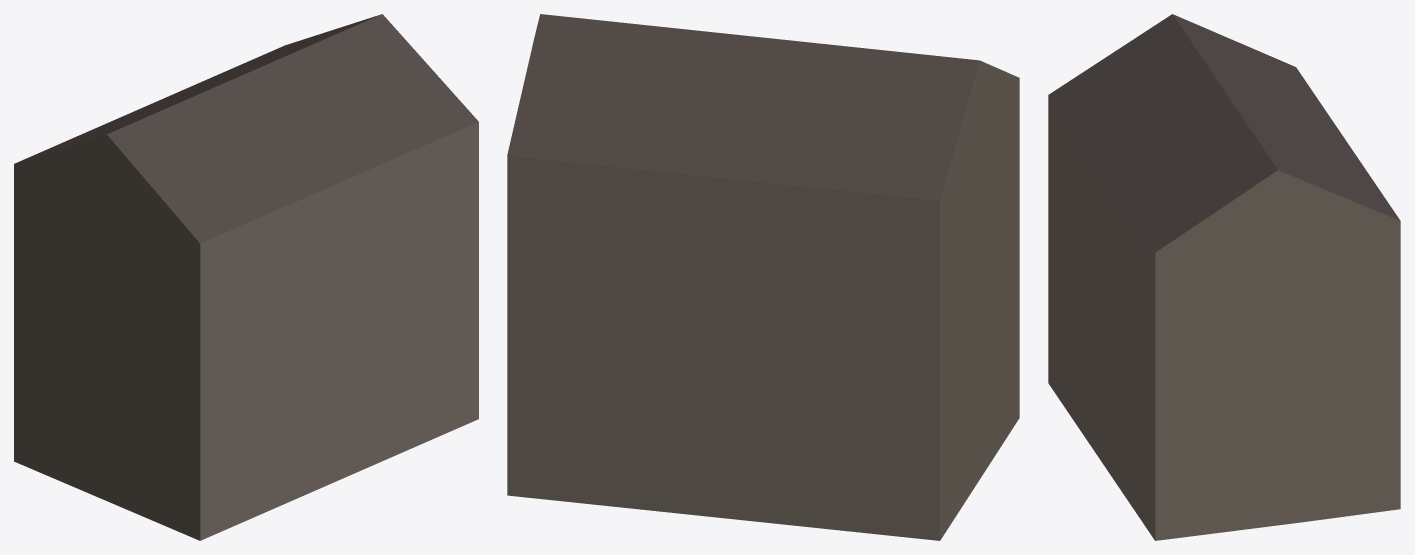
The picture shows the model from 3 angles, left to right: view 1: azimuth 30°, elevation 25°; view 2: azimuth 150°, elevation 25°; view 3: azimuth 270°, elevation 25°; orthographic projection. The views are drawn at different scales.
Parts seen in each view (by area): view 1: HP-w1196401633; view 2: HP-w1196401633; view 3: HP-w1196401633.
Boxes of the visible parts, x1,y1,x2,y2 form: HP-w1196401633: (14,14,478,540); HP-w1196401633: (507,14,1019,540); HP-w1196401633: (1048,14,1400,540).
Bounding box in the file's own units: 8.28 × 7.4 × 6.65.
